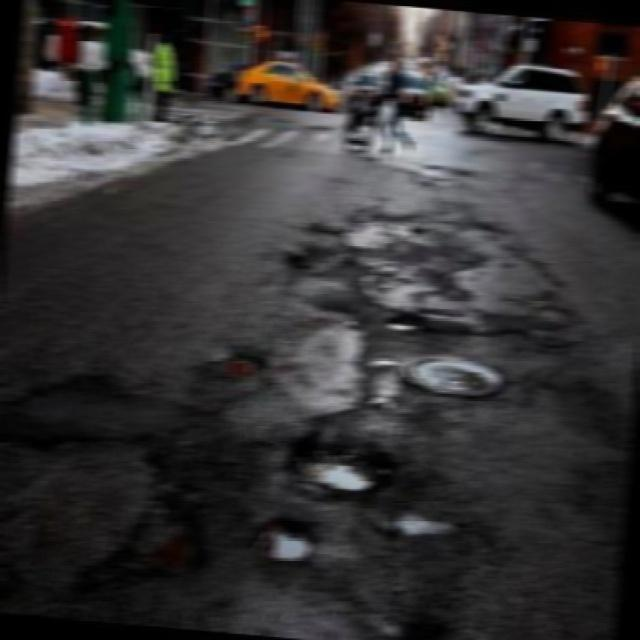Pothole: (69, 472, 213, 604), (364, 210, 512, 304), (273, 431, 413, 498), (248, 513, 318, 569), (278, 242, 356, 292), (377, 506, 462, 550), (204, 342, 276, 390), (372, 601, 455, 640), (299, 215, 348, 241), (386, 314, 432, 336)
